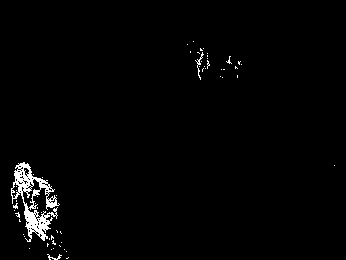person: (11, 161, 68, 260)
